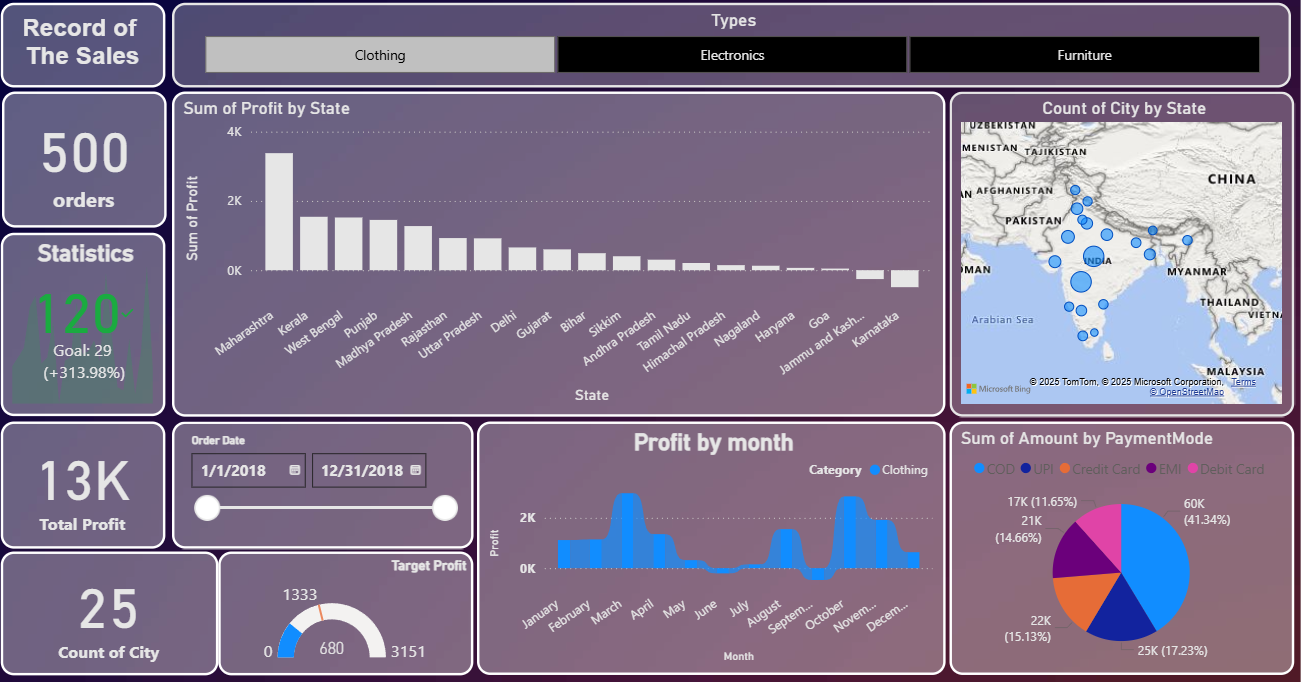

The dashboard page shown, as its layout file describes it:
{"tool":"powerbi","page":{"name":"Page 1","canvas":[1280,720],"ordinal":0},"visuals":[{"type":"textbox","box":[3.7,28.2,162,83.4],"z":0},{"type":"slicer","title":"Types","fields":{"Values":["Details.Category"]},"box":[171.8,28.2,1098.2,83.4],"z":1000},{"type":"map","fields":{"Category":["Orders.State"],"Size":["CountNonNull(Orders.City)"]},"box":[935,115.3,338.7,319],"z":2000},{"type":"card","fields":{"Values":["Orders.Total Sales"]},"box":[4.9,115.3,162,133.7],"z":3000},{"type":"columnChart","fields":{"Y":["Sum(Details.Profit)"],"Category":["Orders.State"]},"box":[171.8,115.3,759.5,319],"z":4000},{"type":"pieChart","fields":{"Category":["Details.PaymentMode"],"Y":["Sum(Details.Amount)"]},"box":[935,439.3,338.7,249.1],"z":5000},{"type":"kpi","title":"Statistics","fields":{"TrendLine":["Orders.City"],"Indicator":["Avg(Details.Amount)"],"Goal":["Avg(Details.Profit)"]},"box":[3.7,254,162,180.4],"z":6000},{"type":"card","fields":{"Values":["Details.Total Profit"]},"box":[3.7,439.3,162,125.2],"z":7000},{"type":"slicer","fields":{"Values":["Orders.Order Date"]},"box":[171.8,439.3,295.7,125.2],"z":8000},{"type":"ribbonChart","title":"Profit by month","fields":{"Y":["Sum(Details.Profit)"],"Category":["Orders.Order Date.Variation.Date Hierarchy.Month"],"Series":["Details.Category"]},"box":[471.2,439.3,460.1,249.1],"z":9000},{"type":"card","fields":{"Values":["Count(Orders.City)"]},"box":[3.7,566.9,213.5,121.5],"z":10000},{"type":"gauge","title":"Target Profit","fields":{"MaxValue":["Max(Details.Amount)"],"Y":["Max(Details.Profit)"],"TargetValue":["Details.exceed profit"]},"box":[217.2,566.9,250.3,121.5],"z":11000}]}

Visuals, with their boxes in screenshot pixels (x1, y1, x2, y2):
textbox: {"x1": 7, "y1": 1, "x2": 170, "y2": 85}
"Types" slicer: {"x1": 176, "y1": 1, "x2": 1277, "y2": 85}
map - Orders.State x CountNonNull(Orders.City): {"x1": 941, "y1": 88, "x2": 1280, "y2": 408}
card - Orders.Total Sales: {"x1": 8, "y1": 88, "x2": 171, "y2": 223}
columnChart - Sum(Details.Profit) x Orders.State: {"x1": 176, "y1": 88, "x2": 937, "y2": 408}
pieChart - Details.PaymentMode x Sum(Details.Amount): {"x1": 941, "y1": 413, "x2": 1280, "y2": 663}
"Statistics" kpi: {"x1": 7, "y1": 228, "x2": 170, "y2": 408}
card - Details.Total Profit: {"x1": 7, "y1": 413, "x2": 170, "y2": 539}
slicer - Orders.Order Date: {"x1": 176, "y1": 413, "x2": 472, "y2": 539}
"Profit by month" ribbonChart: {"x1": 476, "y1": 413, "x2": 937, "y2": 663}
card - Count(Orders.City): {"x1": 7, "y1": 541, "x2": 221, "y2": 663}
"Target Profit" gauge: {"x1": 221, "y1": 541, "x2": 472, "y2": 663}
